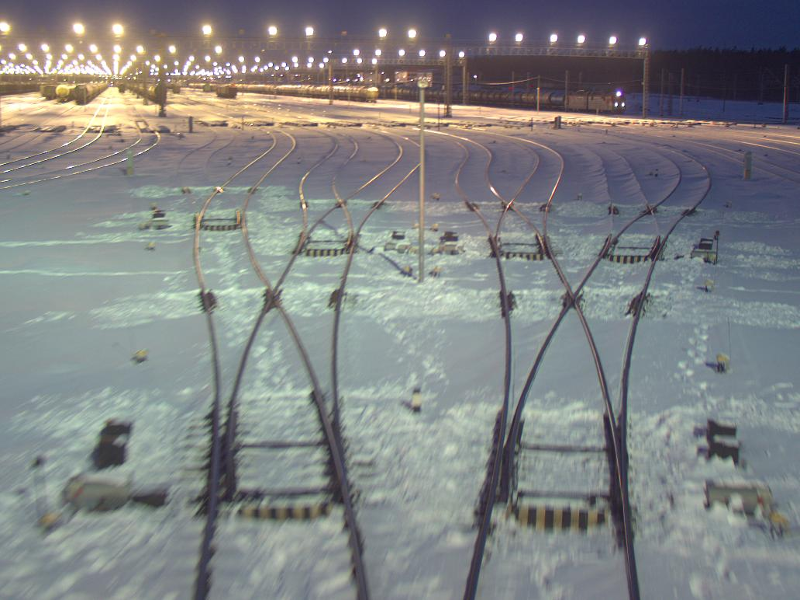left: (480, 274, 634, 517), (196, 269, 360, 497)
right: (465, 189, 555, 258), (597, 201, 686, 259), (296, 191, 364, 253), (190, 173, 258, 229)
